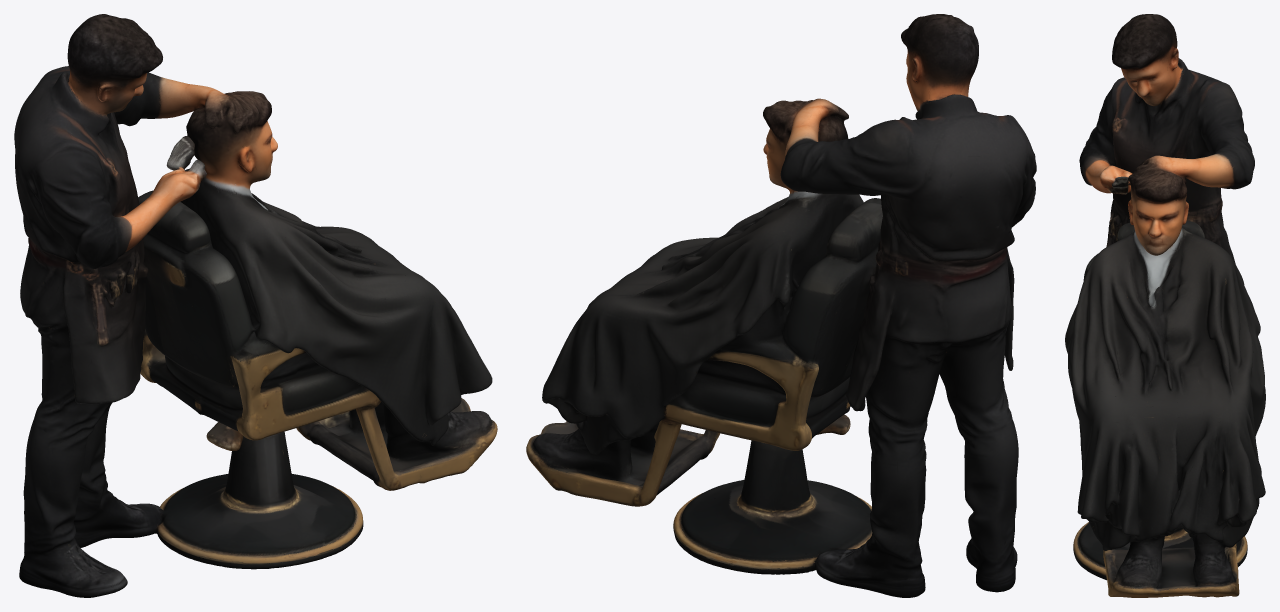
Rendered from modeloBar3D.glb.
3 views of the same model, side by side, from view 1: azimuth 30°, elevation 25°; view 2: azimuth 150°, elevation 25°; view 3: azimuth 270°, elevation 25° (orthographic). The views are drawn at different scales.
Visible parts, largest first — view 1: world; view 2: world; view 3: world.
Boxes of the visible parts, x1,y1,x2,y2 form: world: [14, 14, 497, 597]; world: [526, 14, 1036, 597]; world: [1065, 14, 1265, 597].
Size of the model in its own units: 0.8767 by 1 by 0.3885.
1 material, 1 textured.
